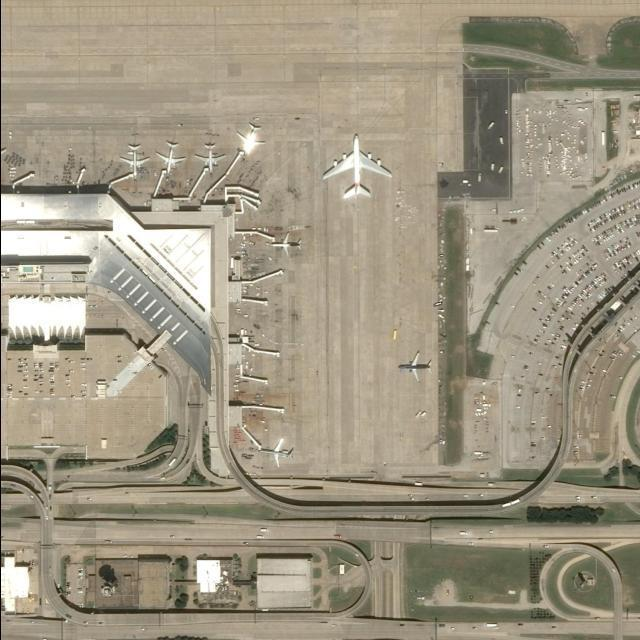Aircraft: (321, 132, 392, 199), (118, 142, 151, 176), (397, 350, 431, 381), (193, 141, 224, 173), (156, 140, 185, 174), (234, 123, 263, 153), (260, 439, 292, 465), (269, 234, 301, 256)
